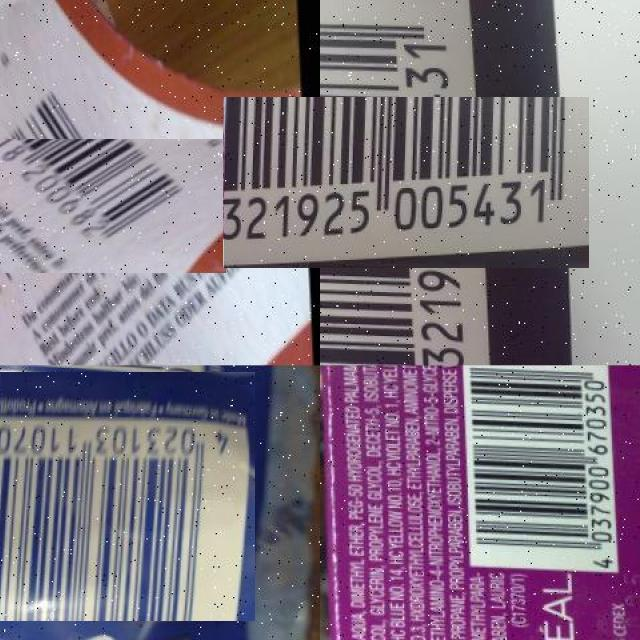Barcode: (272, 49, 540, 318), (0, 369, 252, 624), (0, 94, 180, 320), (462, 365, 622, 572)
